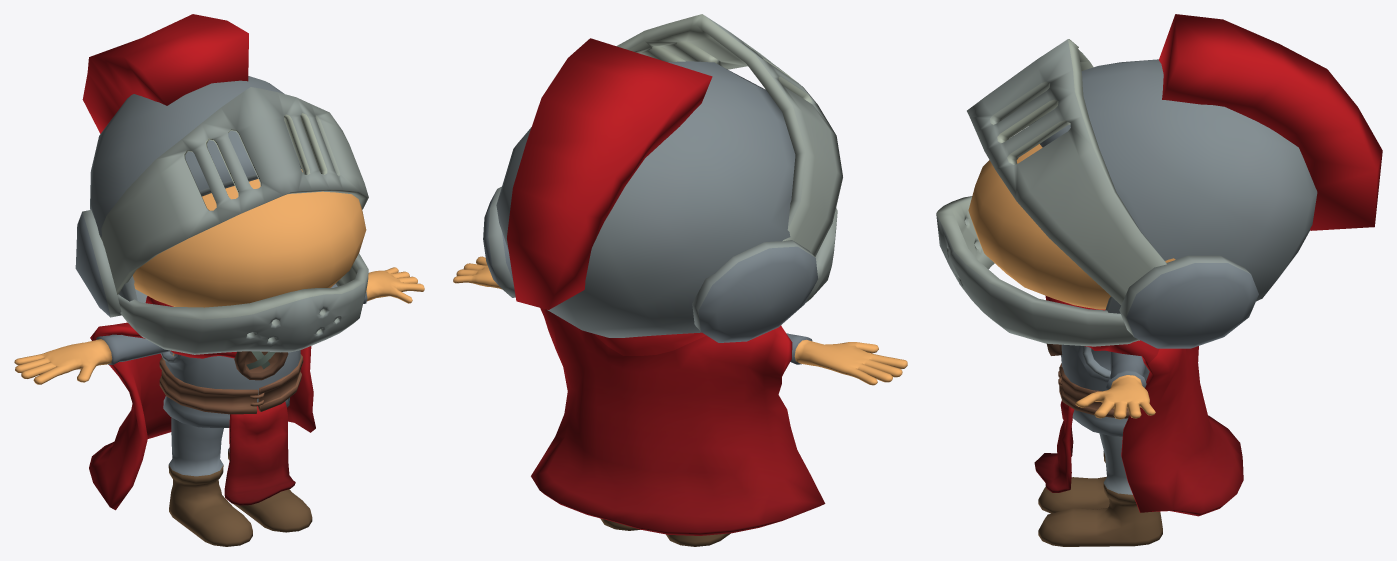
File: Soldier_Last.fbx
The picture shows the model from 3 angles, left to right: view 1: azimuth 30°, elevation 25°; view 2: azimuth 150°, elevation 25°; view 3: azimuth 270°, elevation 25°; orthographic projection. The views are drawn at different scales.
Parts seen in each view (by area): view 1: Soldier; view 2: Soldier; view 3: Soldier.
Part boxes in pixels (x1=…): Soldier: x1=14, y1=14, x2=424, y2=546; Soldier: x1=453, y1=14, x2=907, y2=546; Soldier: x1=936, y1=14, x2=1382, y2=546.
Bounding box in the file's own units: 60.76 × 65.6 × 55.1.
